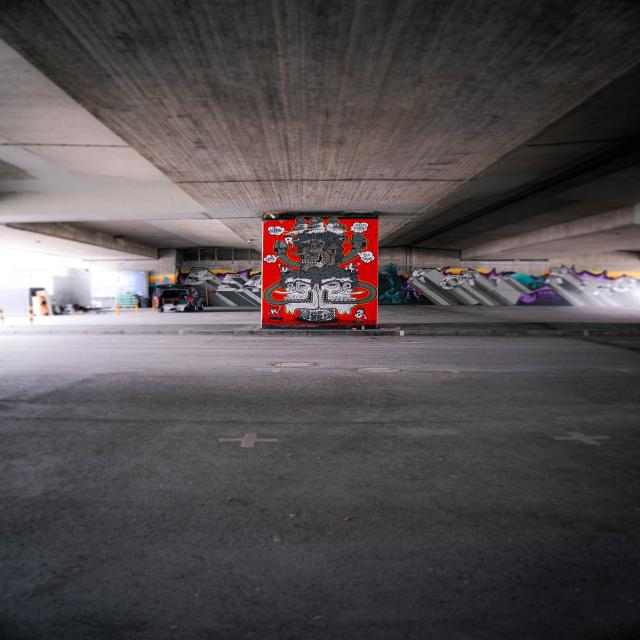Concrete: (0, 306, 640, 640)
